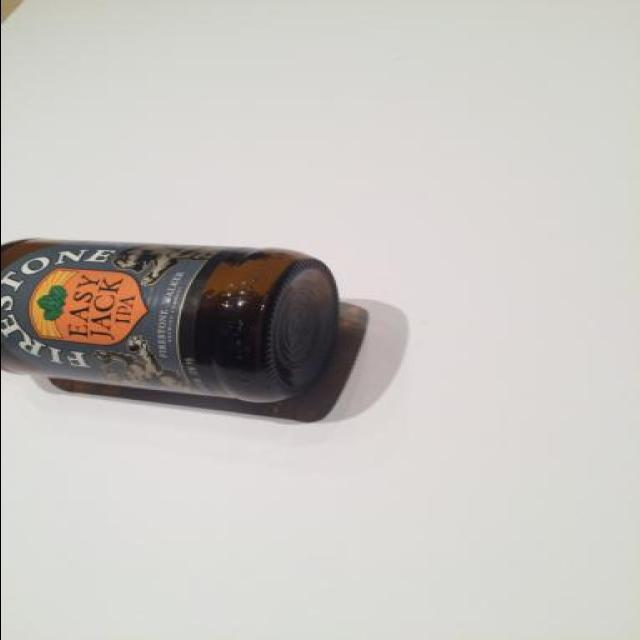Glass Bottle: (1, 236, 342, 404)
